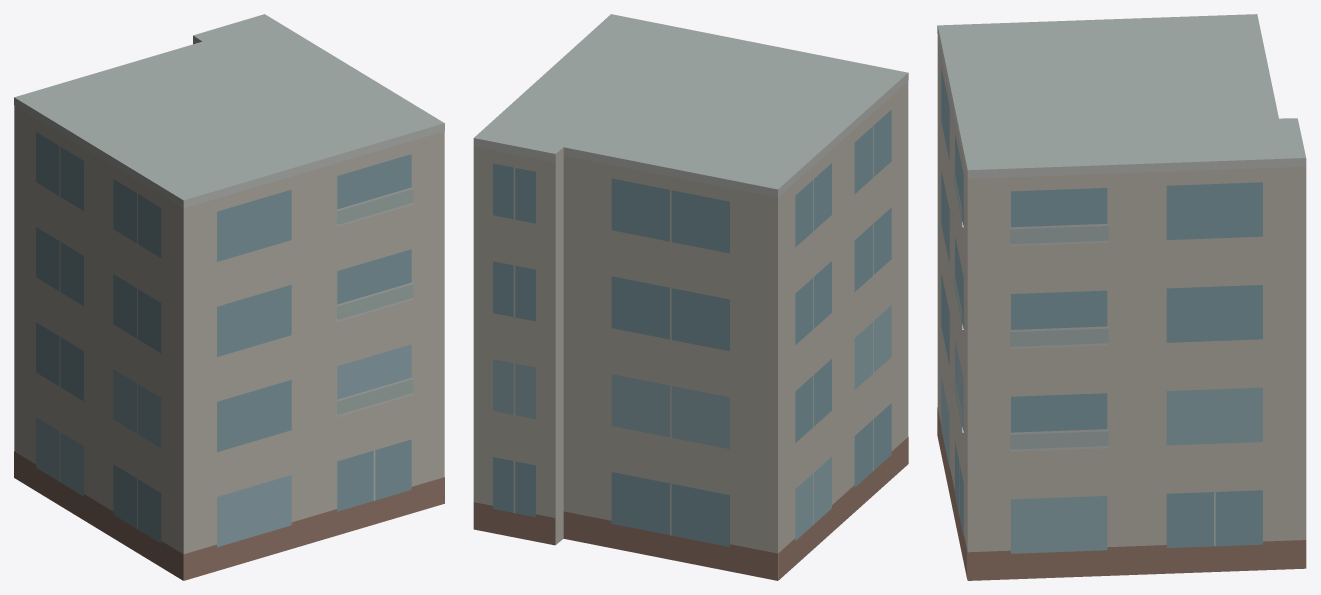
The model's file is survey-upis-32995960.glb.
The picture shows the model from 3 angles, left to right: view 1: azimuth 30°, elevation 25°; view 2: azimuth 150°, elevation 25°; view 3: azimuth 270°, elevation 25°; orthographic projection. The views are drawn at different scales.
Parts seen in each view (by area): view 1: survey-upis-32995960.tmp; view 2: survey-upis-32995960.tmp; view 3: survey-upis-32995960.tmp.
Boxes of the visible parts, x1,y1,x2,y2 form: survey-upis-32995960.tmp: [14, 14, 444, 580]; survey-upis-32995960.tmp: [473, 14, 908, 580]; survey-upis-32995960.tmp: [937, 14, 1306, 580].
Bounding box in the file's own units: 9.47 × 11.6 × 9.45.
